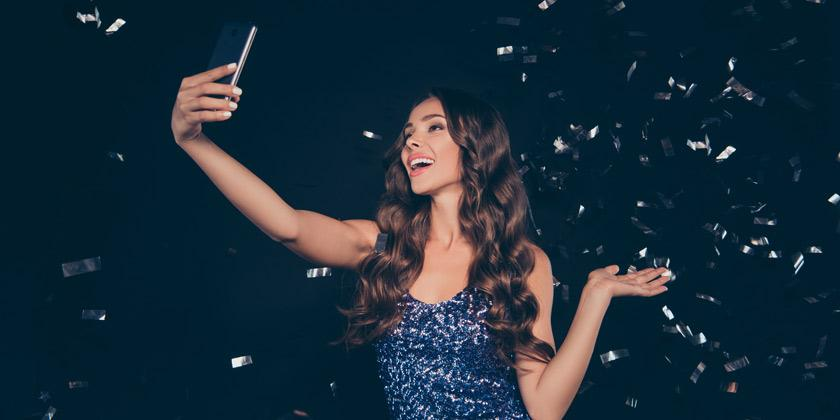person: (335, 106, 534, 293)
